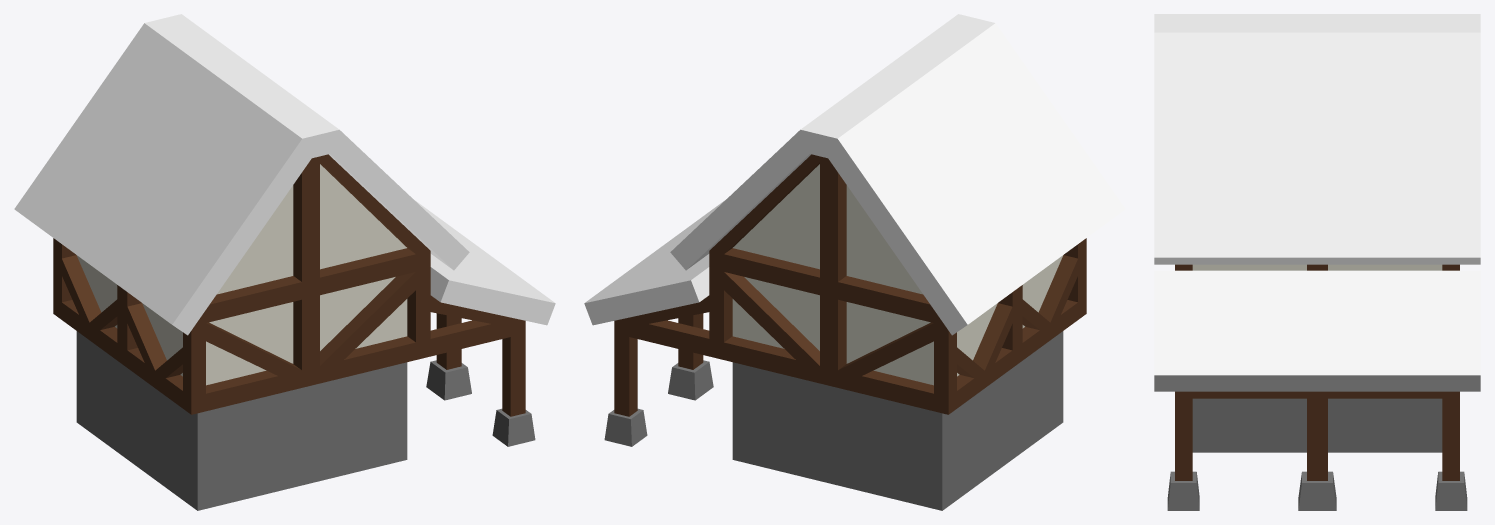
File: SingleComplex.fbx
3 renders of one model, left to right at view 1: azimuth 30°, elevation 25°; view 2: azimuth 150°, elevation 25°; view 3: azimuth 270°, elevation 25°, orthographic. The views are drawn at different scales.
Parts seen in each view (by area): view 1: Single Complex; view 2: Single Complex; view 3: Single Complex.
Part boxes in pixels (bbox=[...]): Single Complex: bbox=[14, 14, 555, 510]; Single Complex: bbox=[584, 14, 1125, 510]; Single Complex: bbox=[1154, 14, 1480, 510].
Size of the model in its own units: 91.43 by 83.06 by 65.23.
